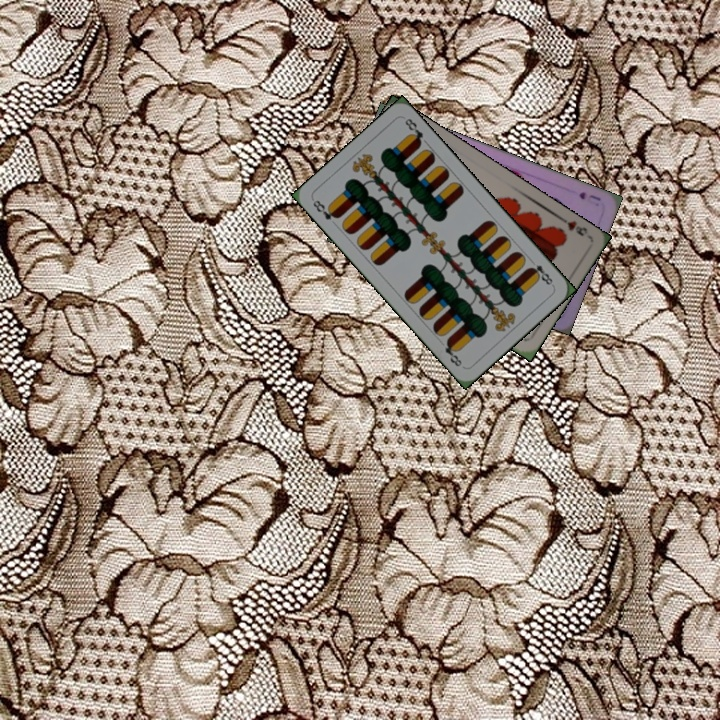E8: (525, 255, 556, 289), (309, 196, 342, 223)
H9: (555, 212, 590, 239)
SU: (575, 187, 603, 204)
